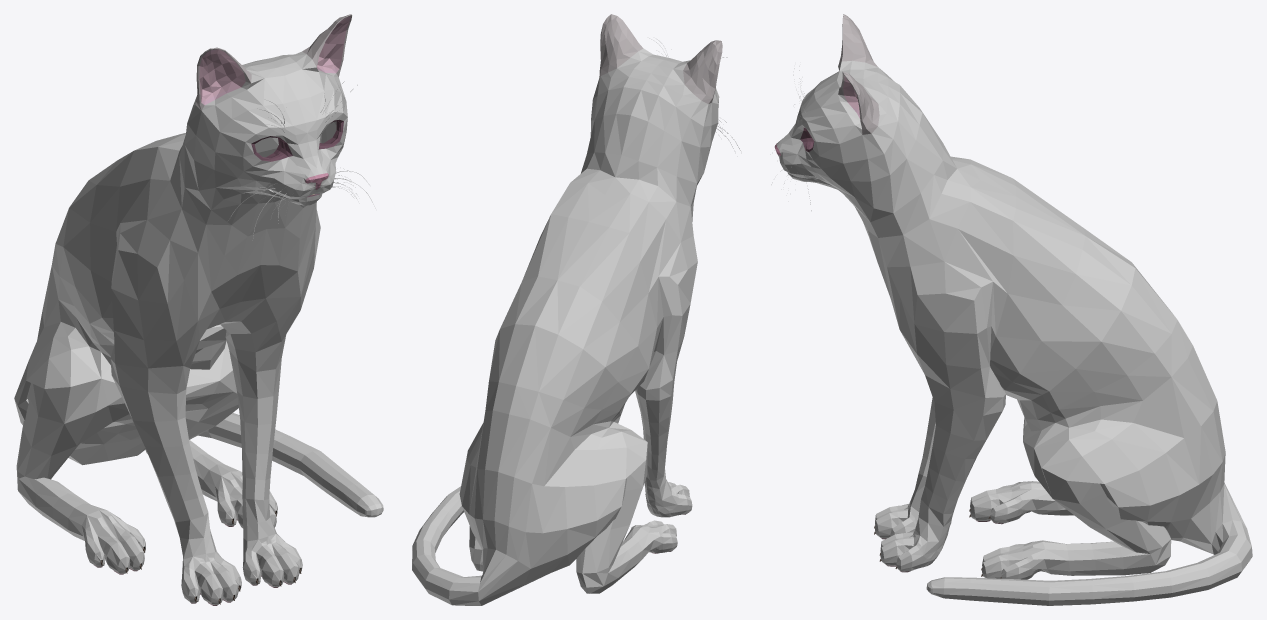
File: Pet_sit_00.glb
3 views of the same model, side by side, from view 1: azimuth 30°, elevation 25°; view 2: azimuth 150°, elevation 25°; view 3: azimuth 270°, elevation 25° (orthographic). The views are drawn at different scales.
Parts seen in each view (by area): view 1: Pet_sit_00; view 2: Pet_sit_00; view 3: Pet_sit_00.
Boxes of the visible parts, x1=… form: Pet_sit_00: x1=14, y1=14, x2=383, y2=605; Pet_sit_00: x1=412, y1=14, x2=740, y2=605; Pet_sit_00: x1=771, y1=14, x2=1252, y2=605.
Bounding box in the file's own units: 0.2097 × 0.4313 × 0.3722.
1 material, 1 textured.
